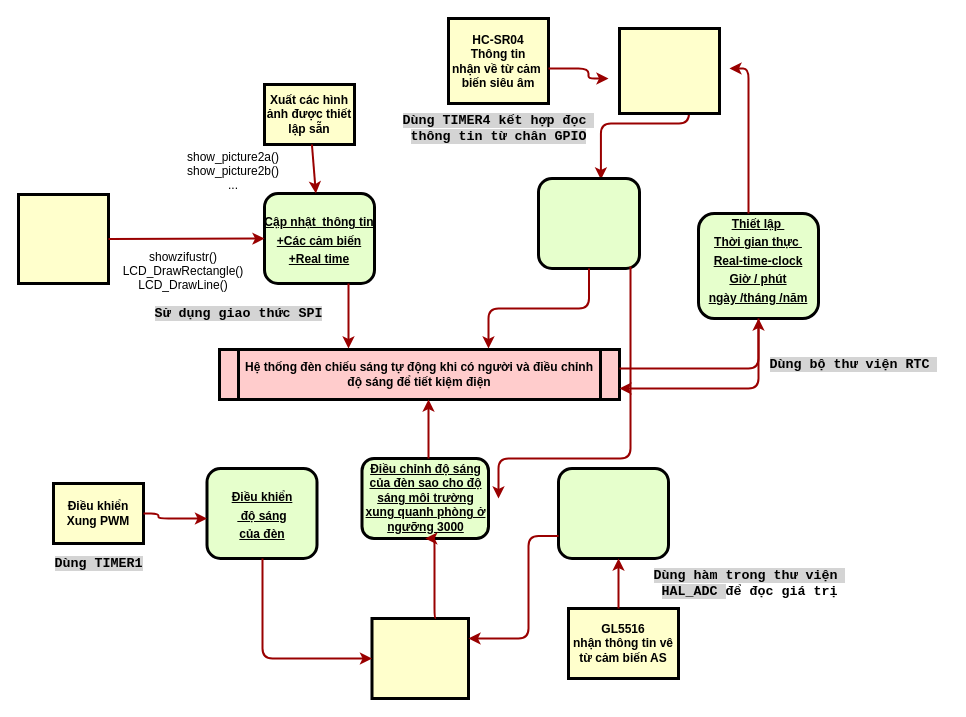
Some shapes in this 966 by 717 pixel diagram are drawn without their labels. The shapes that lost their labels are listed below. From the top down, each one's box as (x1, y1, x2, y2) in pixels, then its label:
(618, 26, 720, 114): Xử lý thông tin giữa cảm biến và thời gian thực
(16, 192, 110, 284): Xuất chữ, giờ, phút ngày /tháng /năm
(536, 176, 640, 270): Hệ thống nhận biết có người hoạt động hay không
(556, 466, 670, 560): Xử lý thông tin từ cảm biến ánh sáng
(370, 616, 470, 700): Kết hợp Xử lý thông tin và điều khiển độ sáng của đen
